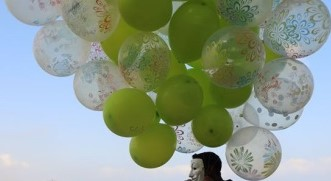Balloon: (201, 25, 262, 89), (264, 1, 330, 59), (253, 59, 313, 115), (31, 20, 88, 77), (224, 126, 282, 181), (118, 31, 168, 92), (169, 3, 213, 63), (102, 89, 156, 137), (75, 61, 124, 110), (63, 1, 120, 39), (128, 124, 177, 168), (157, 76, 201, 123), (191, 108, 232, 147)
